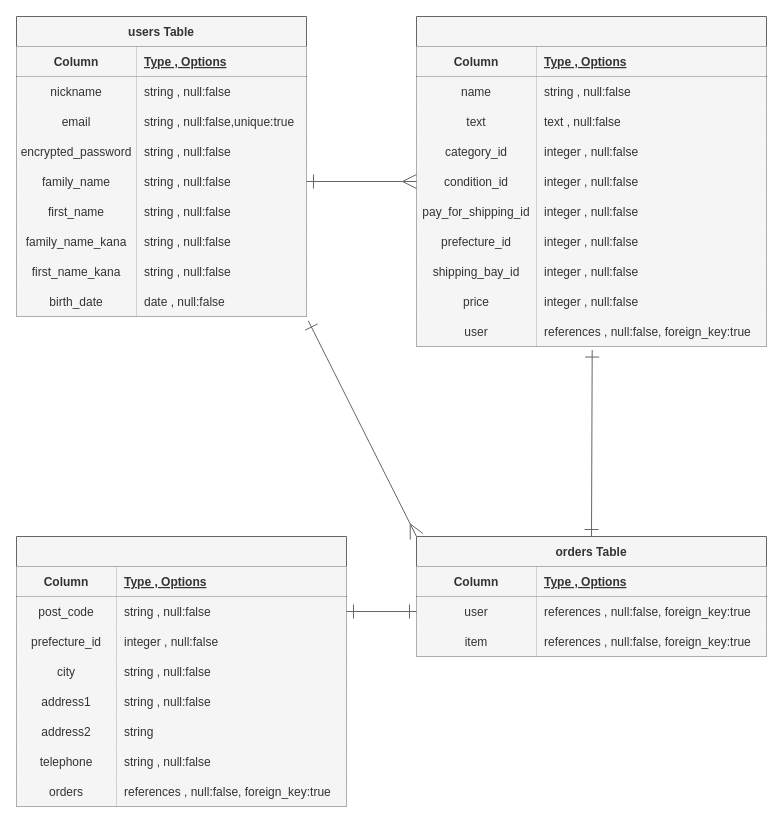
The diagram is 783 pixels wide and 823 high, and some of its shapes have lost their labels. Each missing label, with the box of its shape:
items Table: (416, 16, 766, 346)
shipping_adresses Table: (16, 536, 346, 806)
